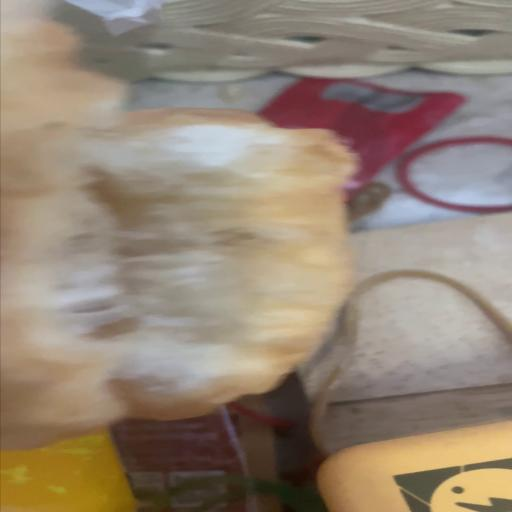street_golden_defect: (0, 116, 356, 466)
